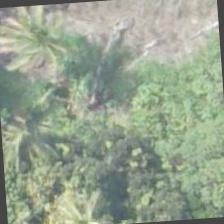Kelapa_Sawit: (0, 2, 88, 85)
